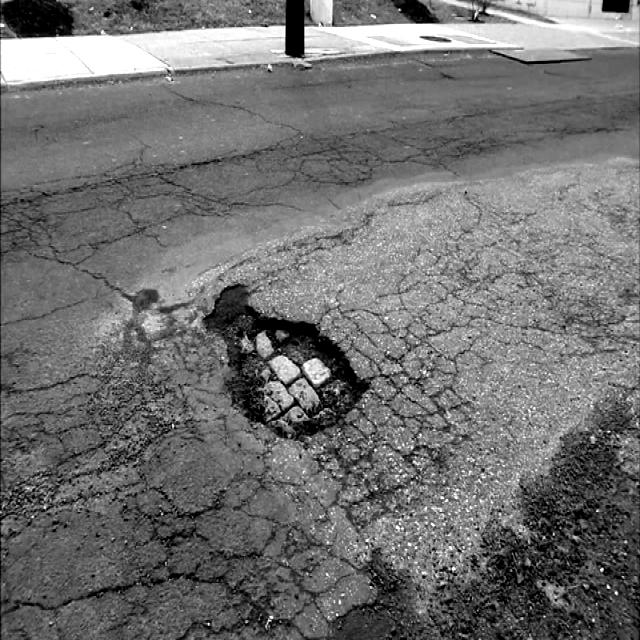pathole: (166, 251, 405, 484)
